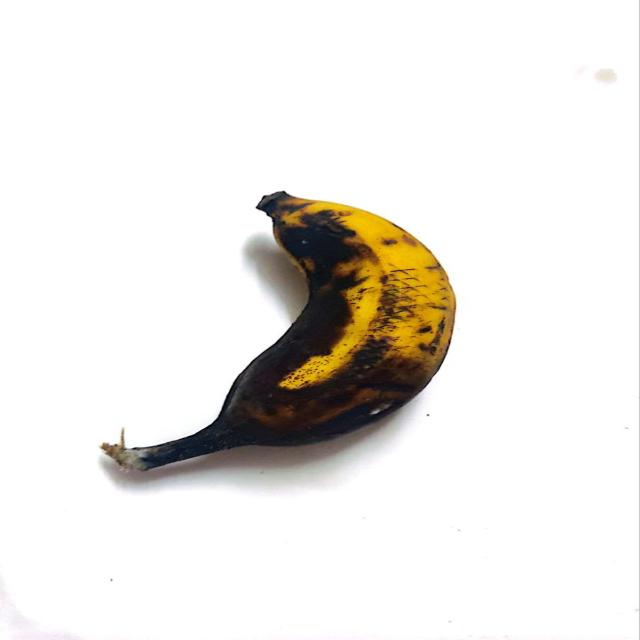rotten_banana: (126, 188, 462, 475)
